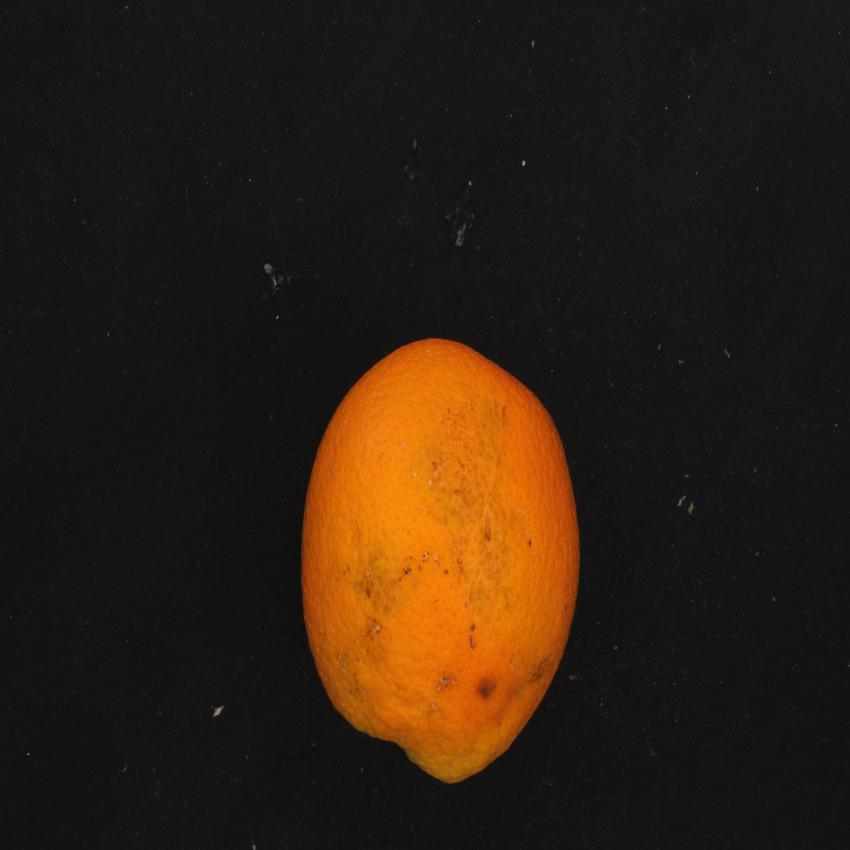Mal estado: (291, 328, 597, 789)
